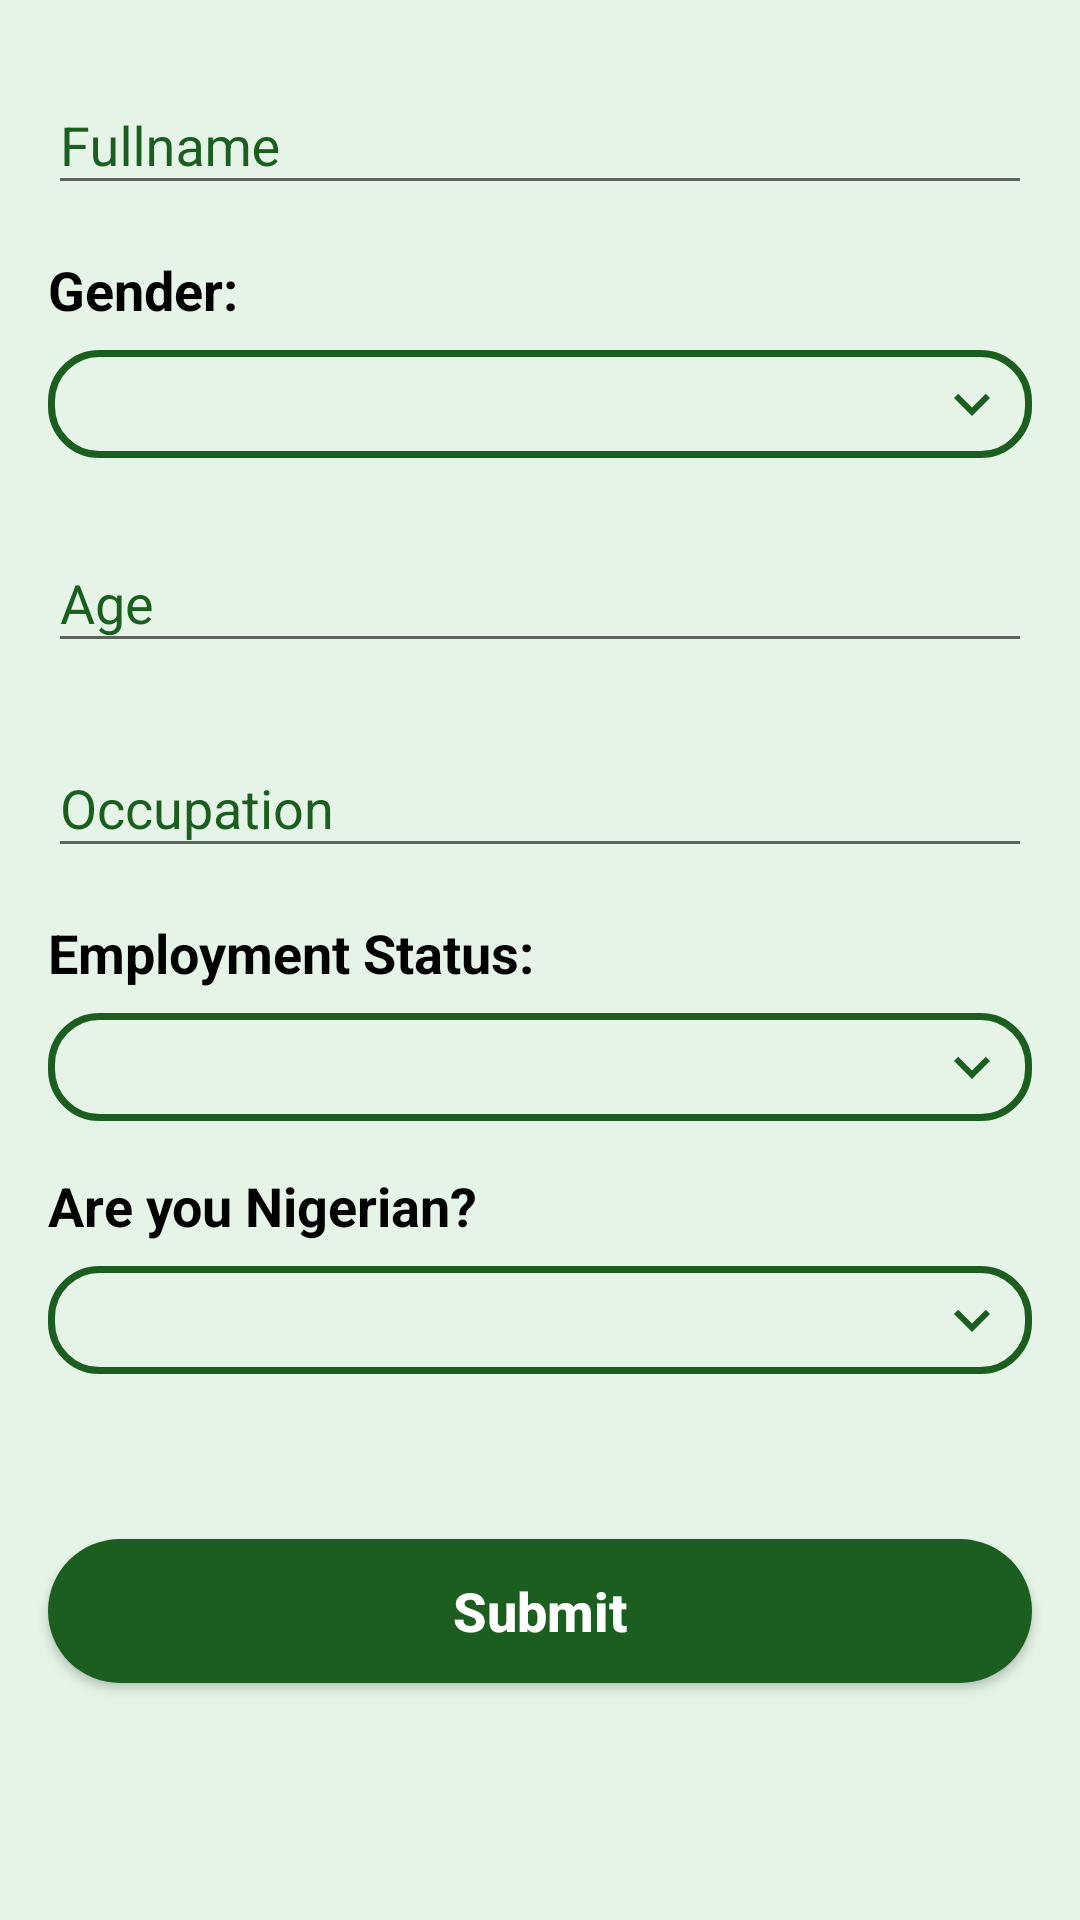

Screen size 1080px×1920px. Icon name, then its box in pixels as (x1, y1, x2, y2):
expand more: (954, 394, 990, 416), (954, 1057, 990, 1079), (954, 1310, 990, 1332)
